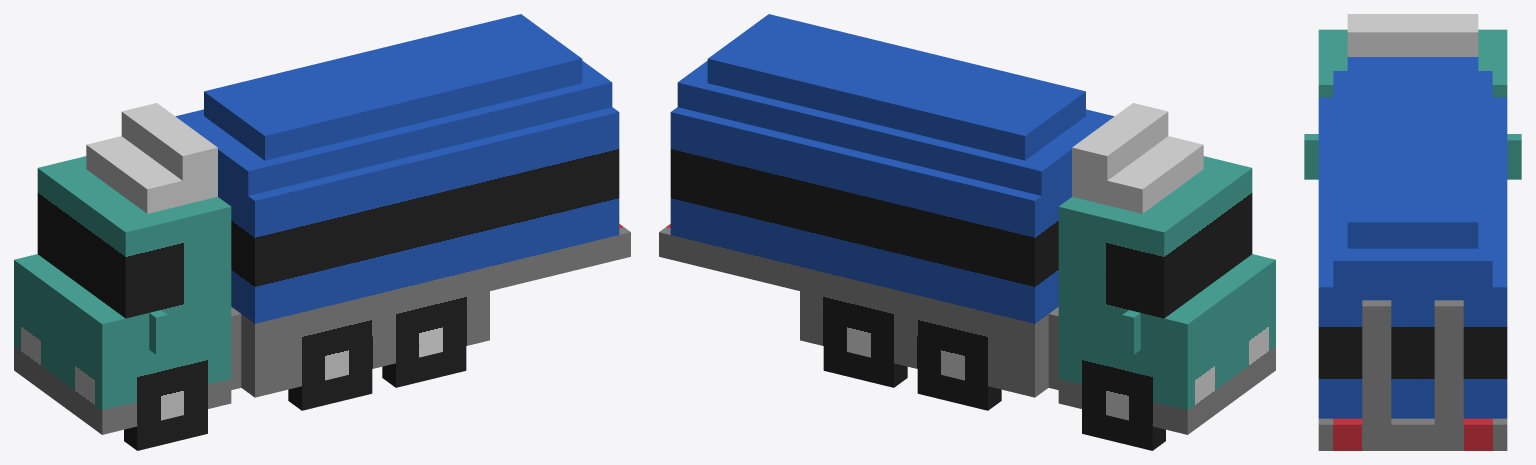
Rendered from veh_truck_gas.dae.
The picture shows the model from 3 angles, left to right: view 1: azimuth 30°, elevation 25°; view 2: azimuth 150°, elevation 25°; view 3: azimuth 270°, elevation 25°; orthographic projection. The views are drawn at different scales.
Parts seen in each view (by area): view 1: veh_truck_gas; view 2: veh_truck_gas; view 3: veh_truck_gas.
Part boxes in pixels (x1,y1,x2,y2): veh_truck_gas: [14, 14, 630, 450]; veh_truck_gas: [659, 14, 1275, 450]; veh_truck_gas: [1304, 14, 1521, 450].
Bounding box in the file's own units: 4.5 × 2.2 × 1.5.
